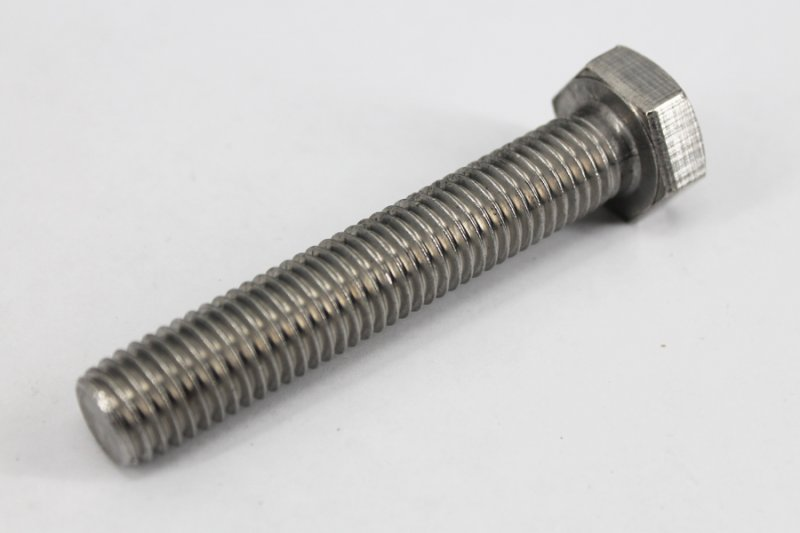screw: (76, 46, 707, 472)
